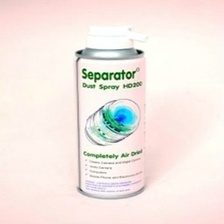aerosol_cans: (69, 22, 153, 203)
